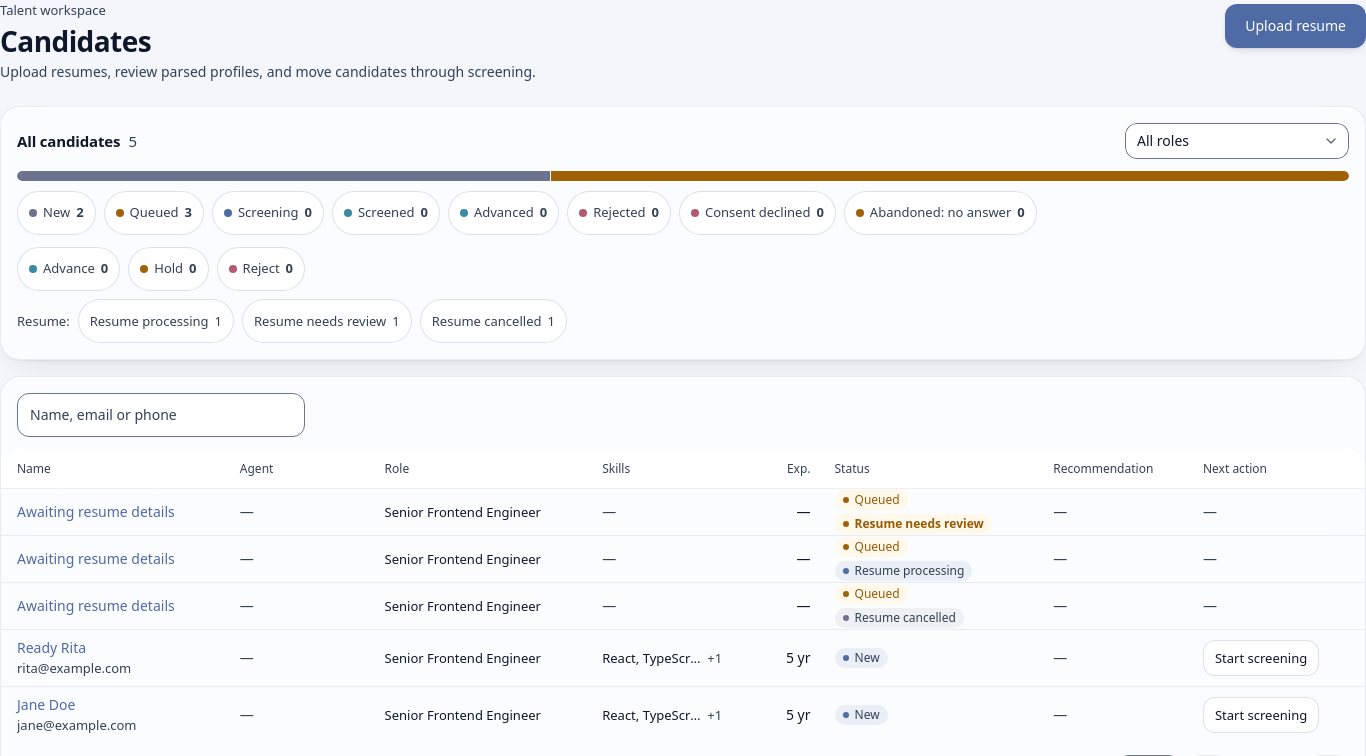
Scenario: CandidatesPage — resume-review facet › toggles the facet and clears it without touching the status filters
The width and height of the screenshot is (1366, 756).
Expected: the link "Jane Doe" is shown, [17,695,76,714]
Click the button "Resume cancelled 1": [493, 321] box [420,299,567,343]
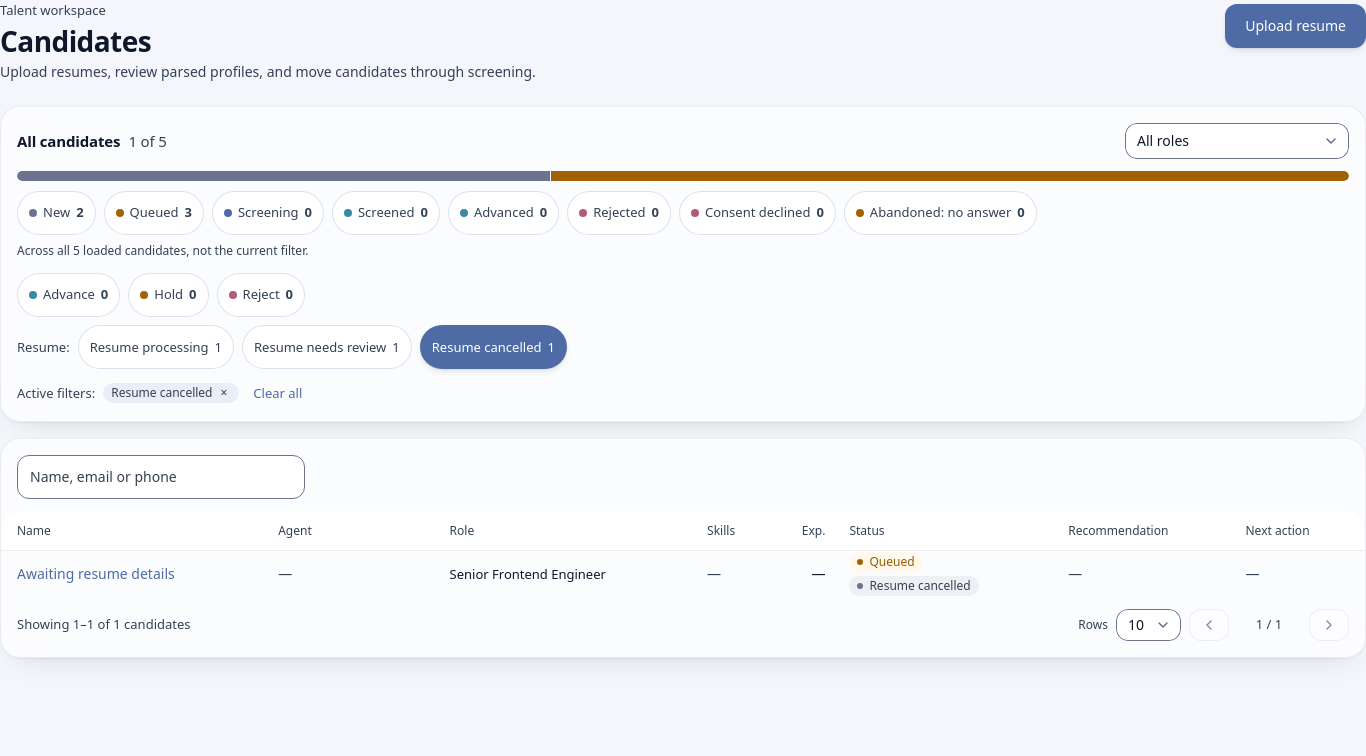
Now the text "1 of 5" is shown, box [128,131,167,151]
Now the link "Jane Doe" is gone
Click the button "Clear all": [278, 393] box [247,381,308,405]
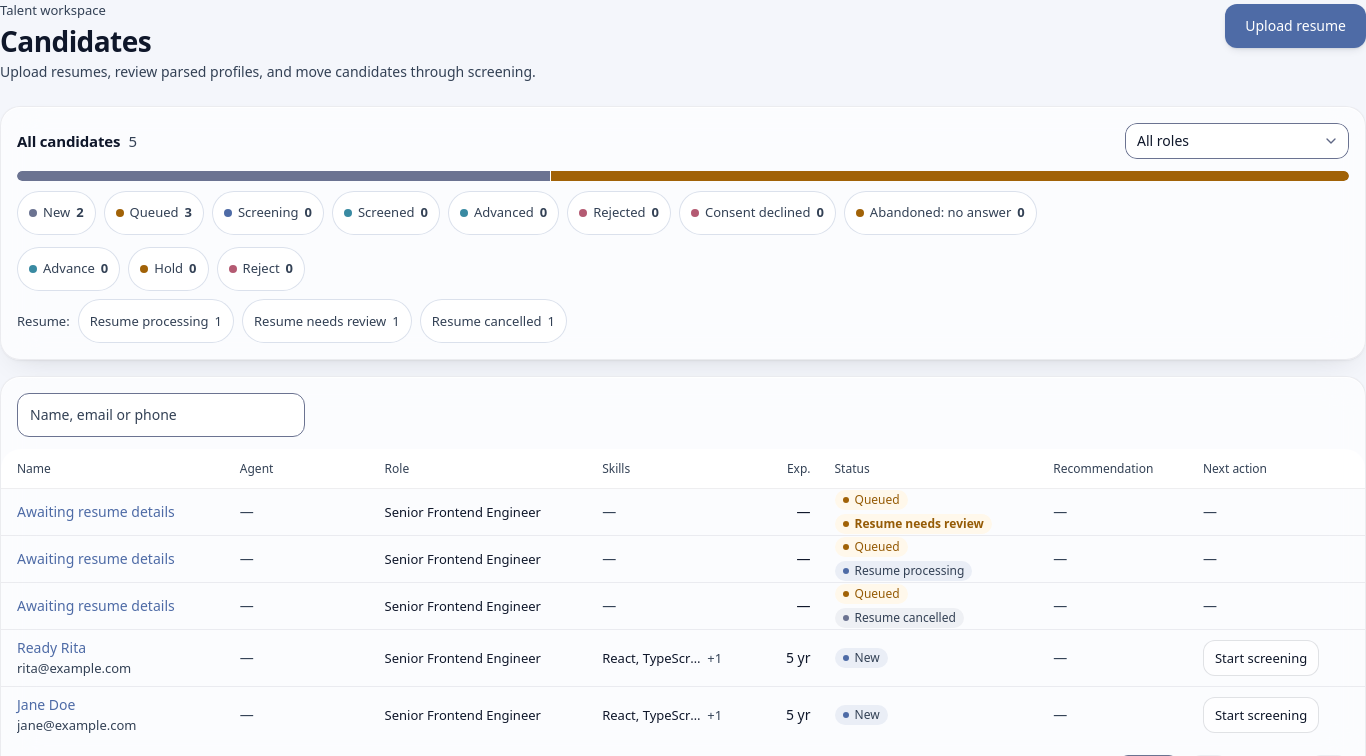
Now the link "Jane Doe" is shown, box [17,695,76,714]
